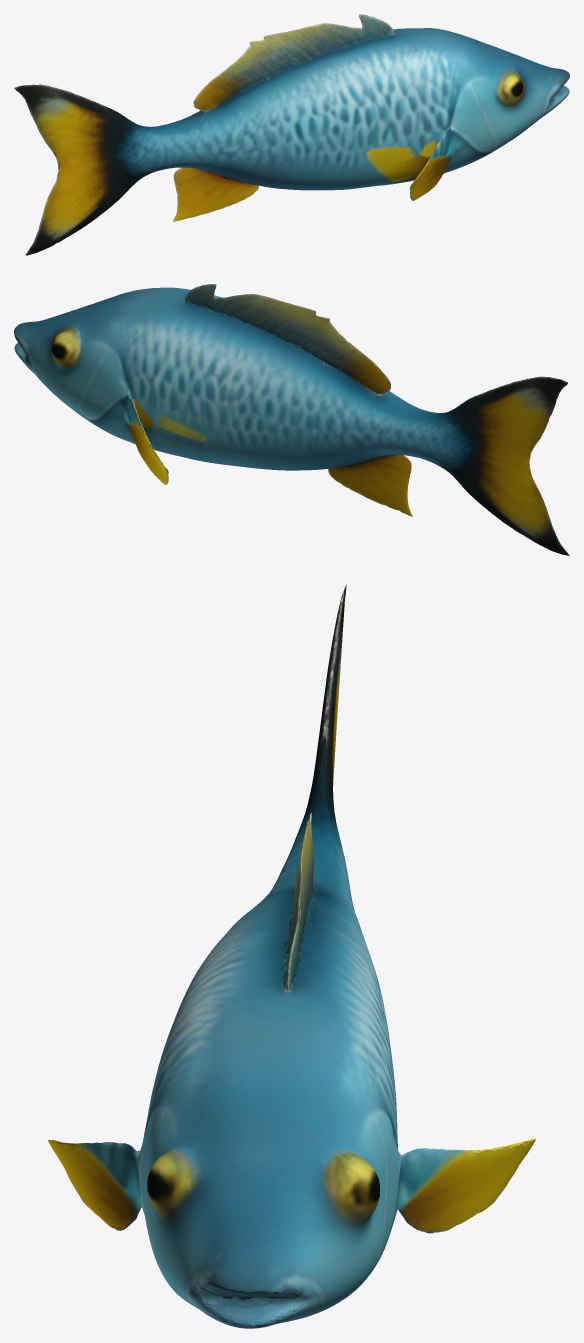
Rendered from fish.glb.
3 views of the same model, one above another, from view 1: azimuth 30°, elevation 25°; view 2: azimuth 150°, elevation 25°; view 3: azimuth 270°, elevation 25° (orthographic). The views are drawn at different scales.
Visible parts, largest first — view 1: RealisticFish; view 2: RealisticFish; view 3: RealisticFish.
Boxes of the visible parts, left/top/right/bottom form: RealisticFish: left=14, top=14, right=569, bottom=255; RealisticFish: left=14, top=284, right=569, bottom=555; RealisticFish: left=48, top=584, right=535, bottom=1328.
Size of the model in its own units: 1.89 by 0.5675 by 0.7549.
Materials: 1 (1 with a texture image).
